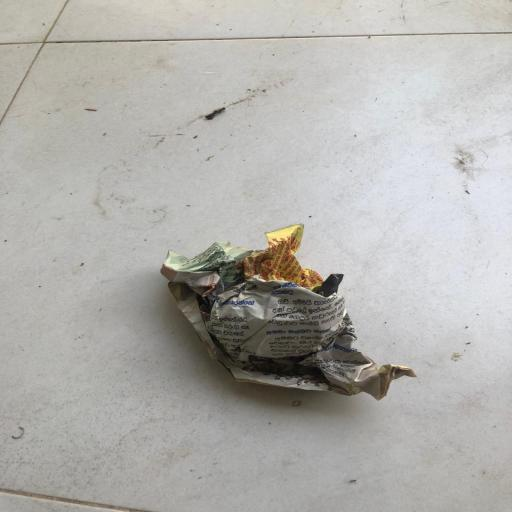waste: (140, 215, 414, 398)
